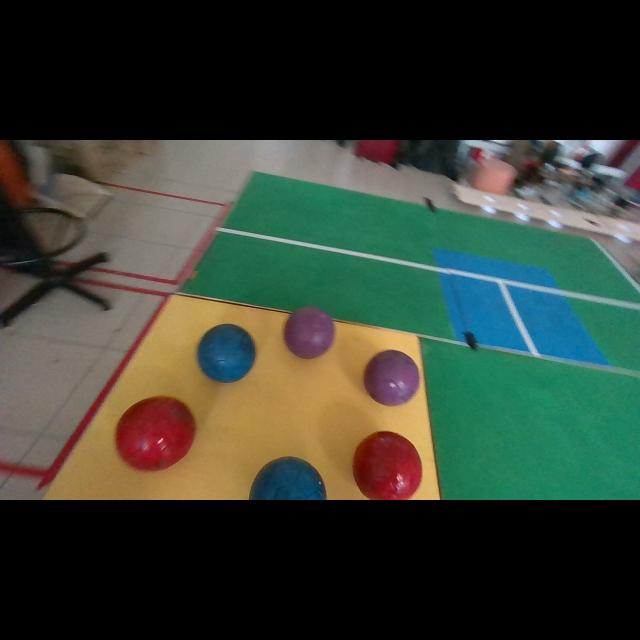B: (249, 456, 326, 500), (198, 324, 256, 382)
P: (364, 350, 419, 405), (284, 306, 334, 359)
R: (116, 396, 196, 471), (352, 431, 422, 500)
